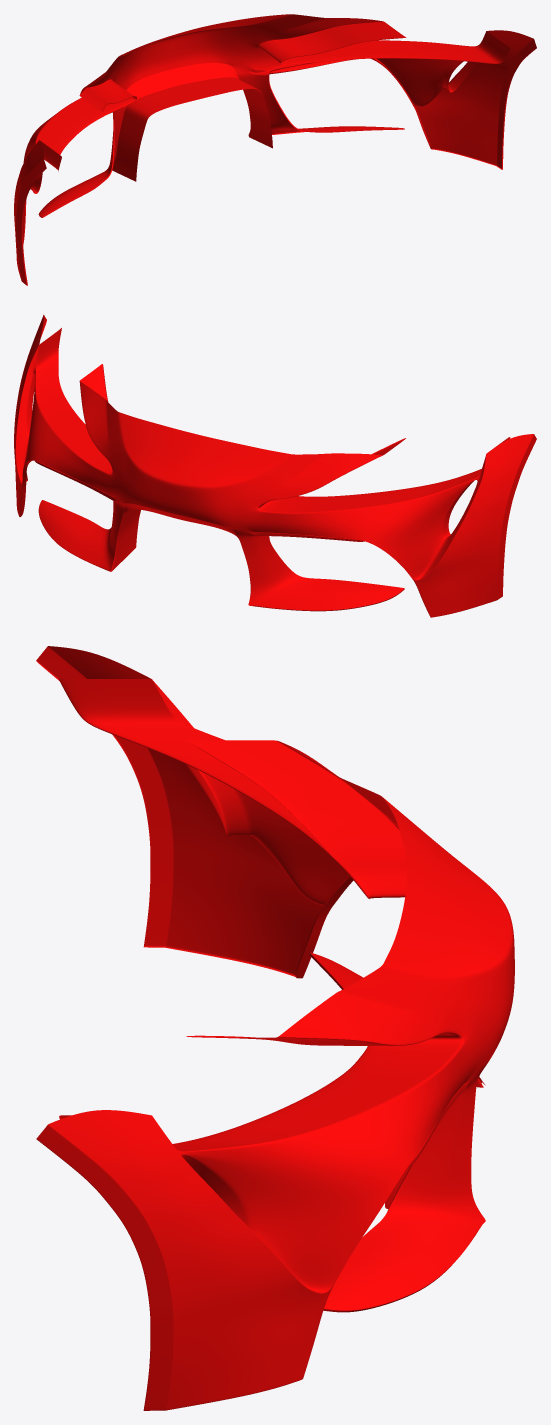
The model's file is MK5frontgrill.glb.
The picture shows the model from 3 angles, top to bottom: view 1: azimuth 30°, elevation 25°; view 2: azimuth 150°, elevation 25°; view 3: azimuth 270°, elevation 25°; orthographic projection. The views are drawn at different scales.
Parts seen in each view (by area): view 1: Object_37; view 2: Object_37; view 3: Object_37.
Boxes of the visible parts, x1=… form: Object_37: x1=14, y1=14, x2=536, y2=285; Object_37: x1=14, y1=314, x2=536, y2=617; Object_37: x1=36, y1=646, x2=514, y2=1410.
Bounding box in the file's own units: 1.23 × 0.3659 × 0.5222.
